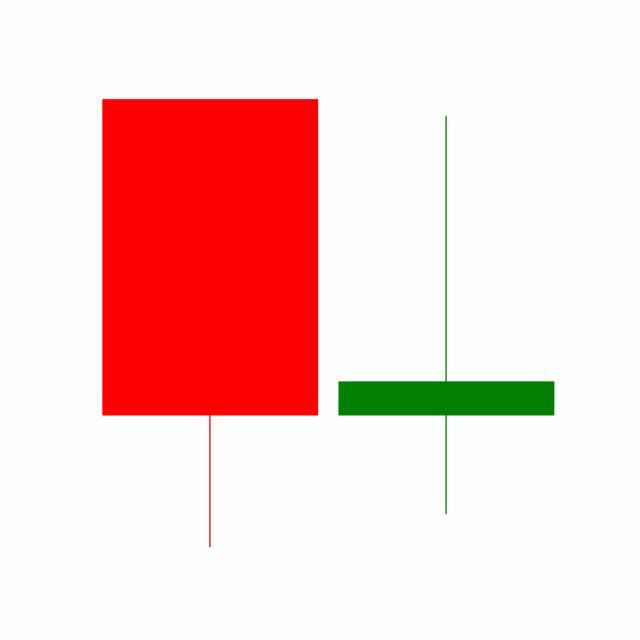Spinning Top: (328, 113, 566, 520)
